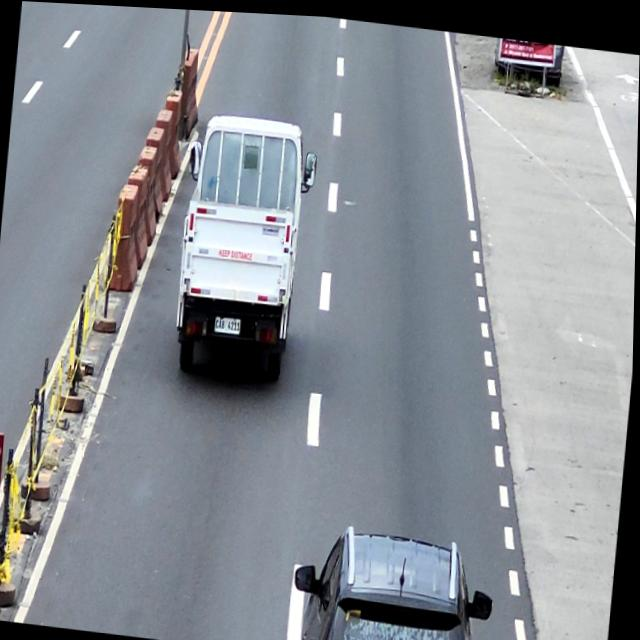Car: (289, 514, 500, 640)
License-Plate: (215, 312, 243, 333)
Truck: (170, 107, 322, 386)
